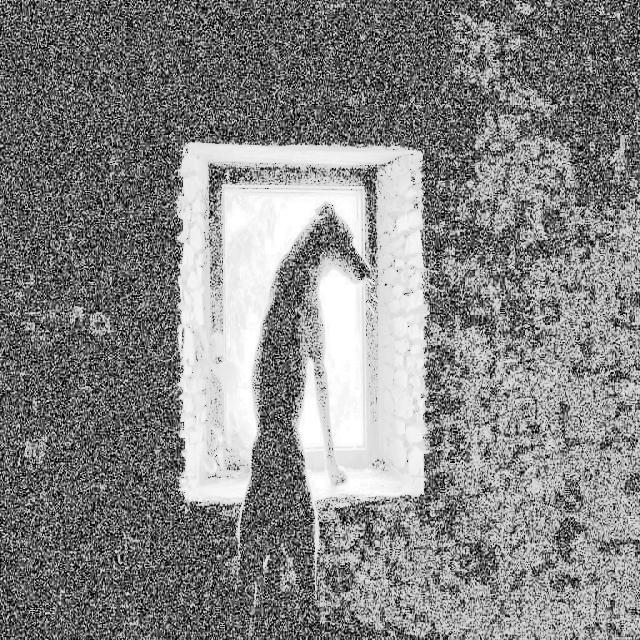Dog: (211, 202, 391, 640)
